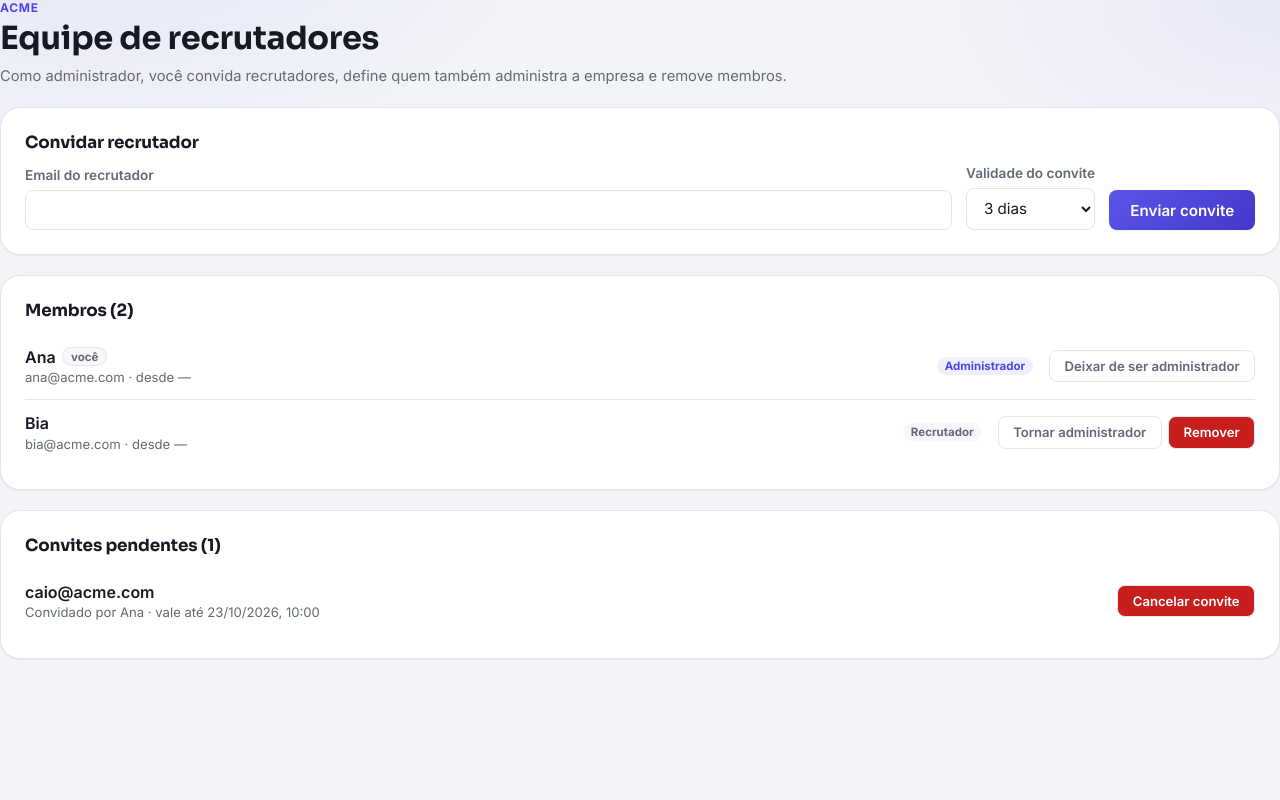
Test: TeamPage › convite: escolhe a validade (2 a 7 dias), mostra o link pra copiar e avisa quando o email não saiu
Expected: the text "Bia" is shown, [25, 413, 49, 433]
Step 1. Type "novo@acme.com" into the field labelled "Email do recrutador" → (488, 210), box [25, 190, 952, 230]
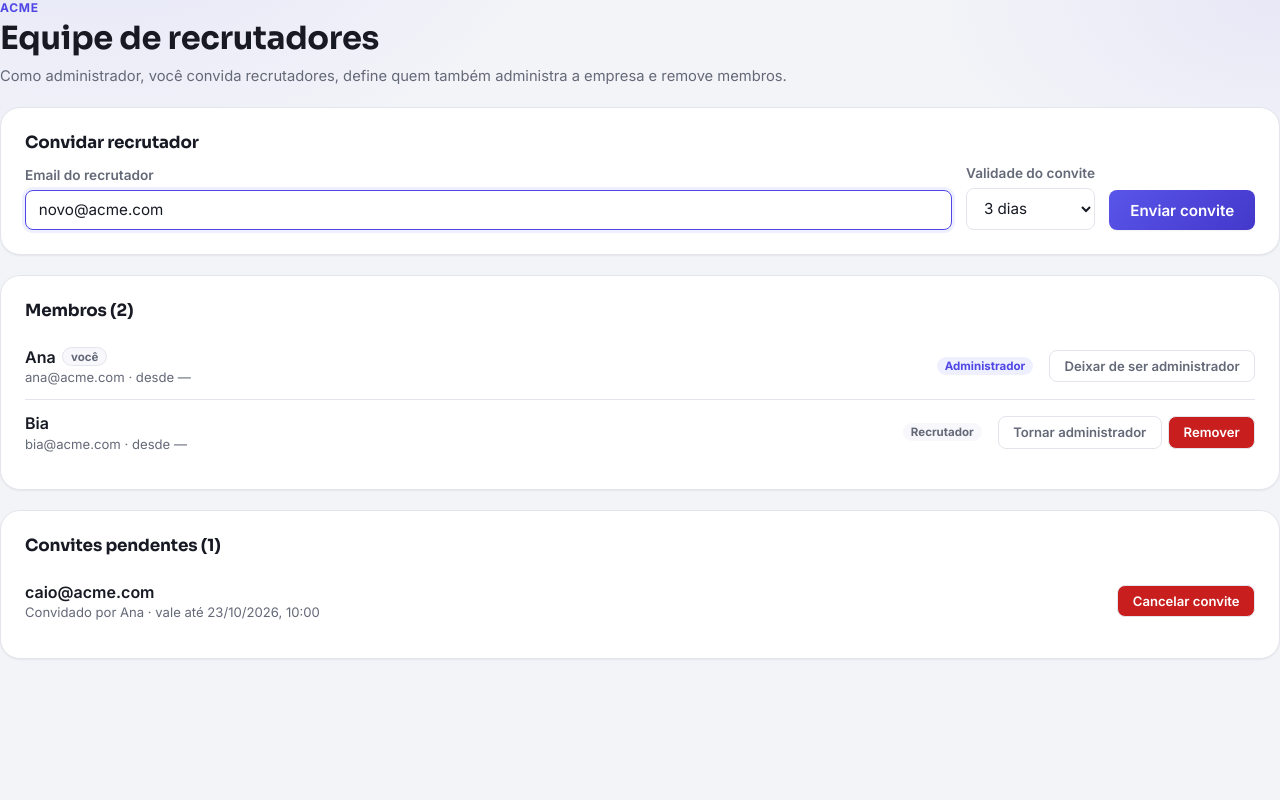
Step 2. Select "5 dias" in the dropdown labelled "Validade do convite" → (1031, 209), box [966, 188, 1095, 230]
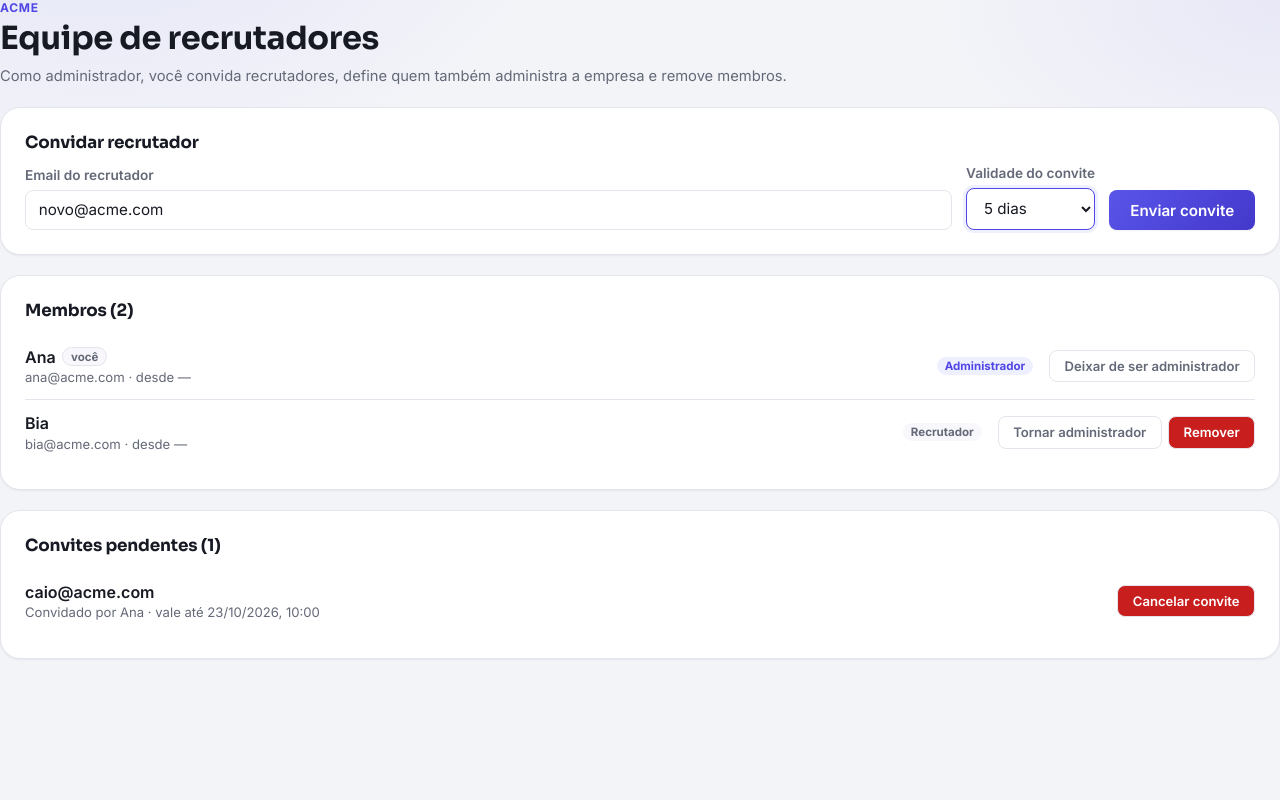
Step 3. Click the button "Enviar convite" → (1182, 210), box [1110, 190, 1255, 230]
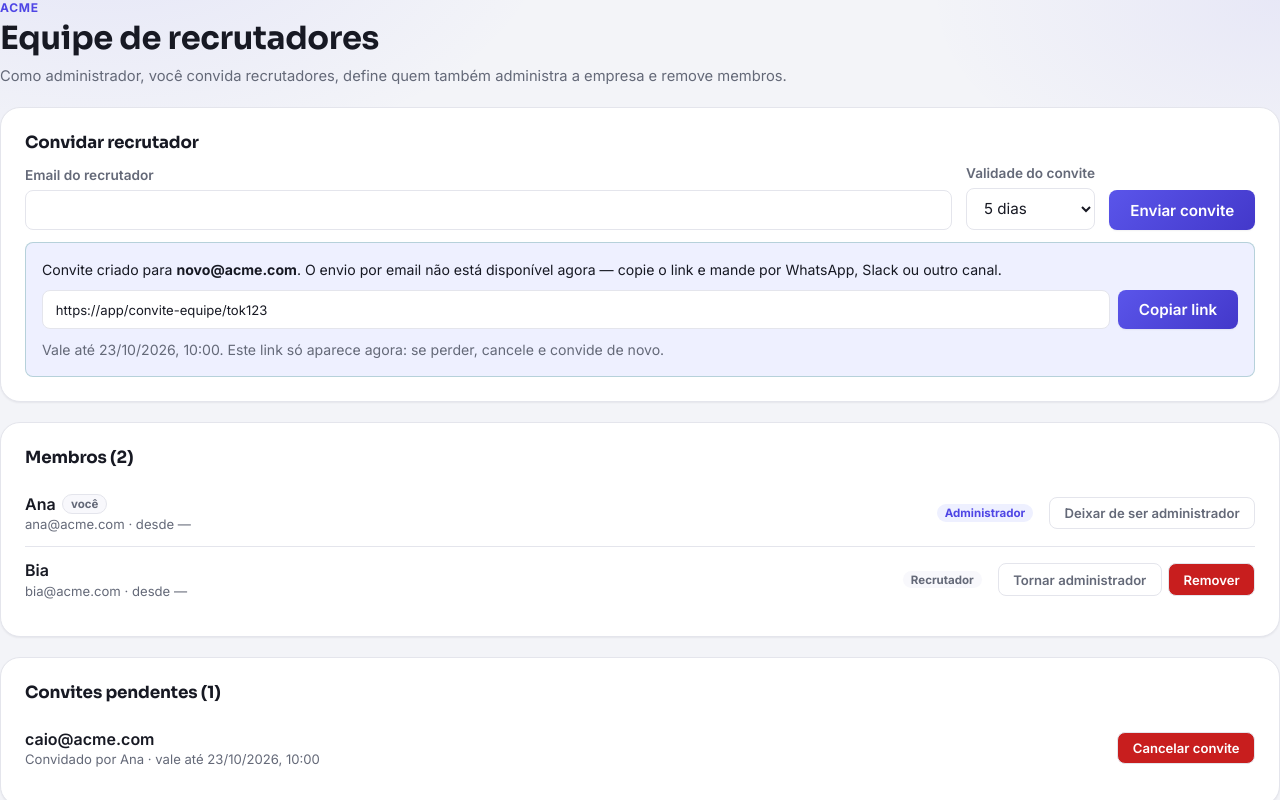
Result: the field named "Link do convite" holds "https://app/convite-equipe/tok123" at [42, 290, 1110, 330]
Result: the text "envio por email não está disponível" is shown at [297, 261, 1002, 278]
Result: the button "Copiar link" is shown at [1118, 290, 1238, 330]
